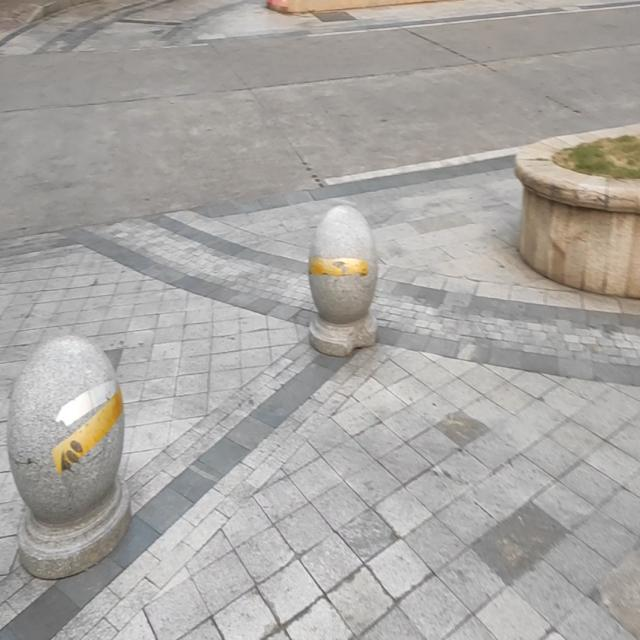spherical_roadblock: (5, 334, 132, 574), (306, 204, 380, 357)
